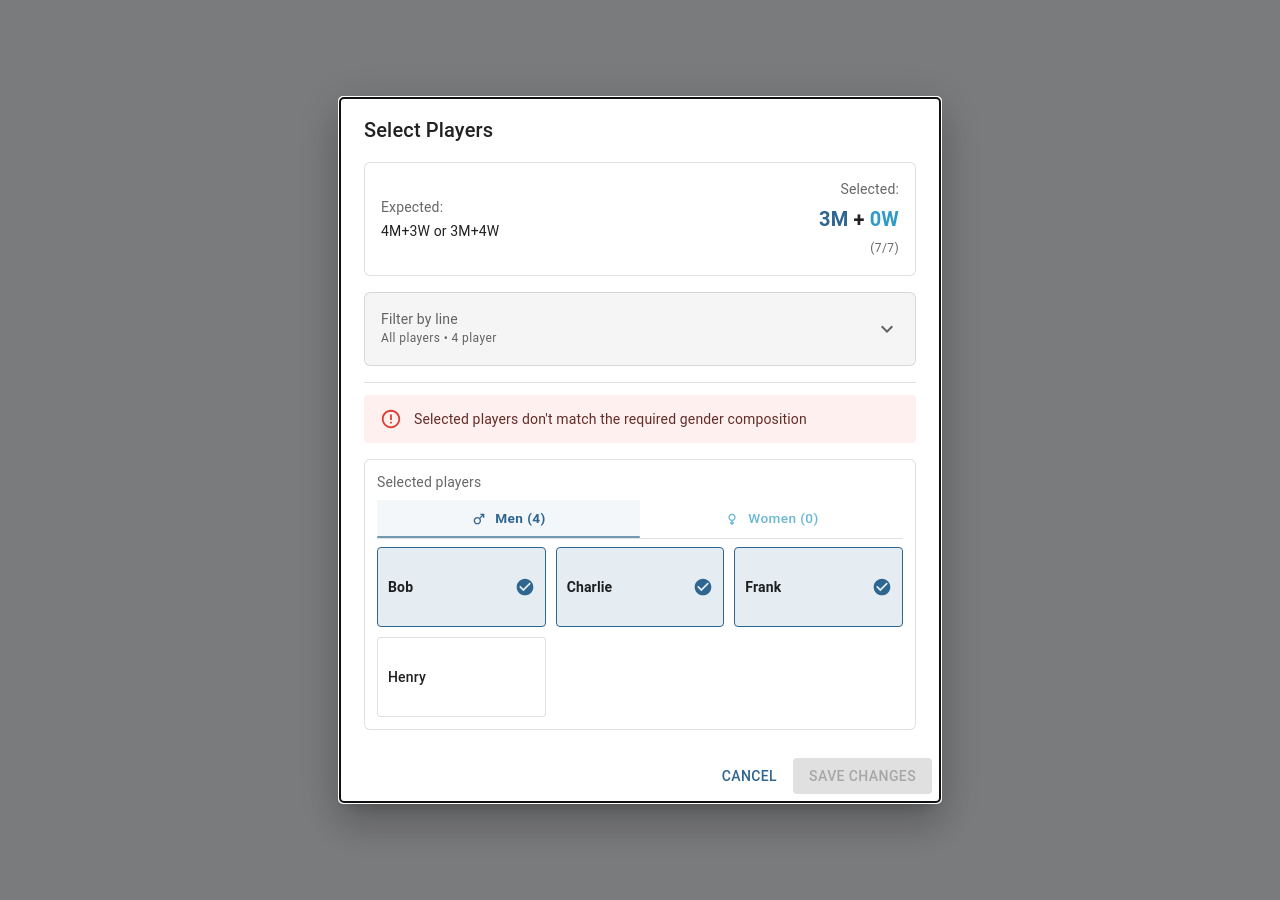
Test: ManagePlayersDialog › Empty States › shows 'no women' message when no women available
Switch to women tab
Click the tab "Women (0)" at (772, 519), box [640,500,903,538]
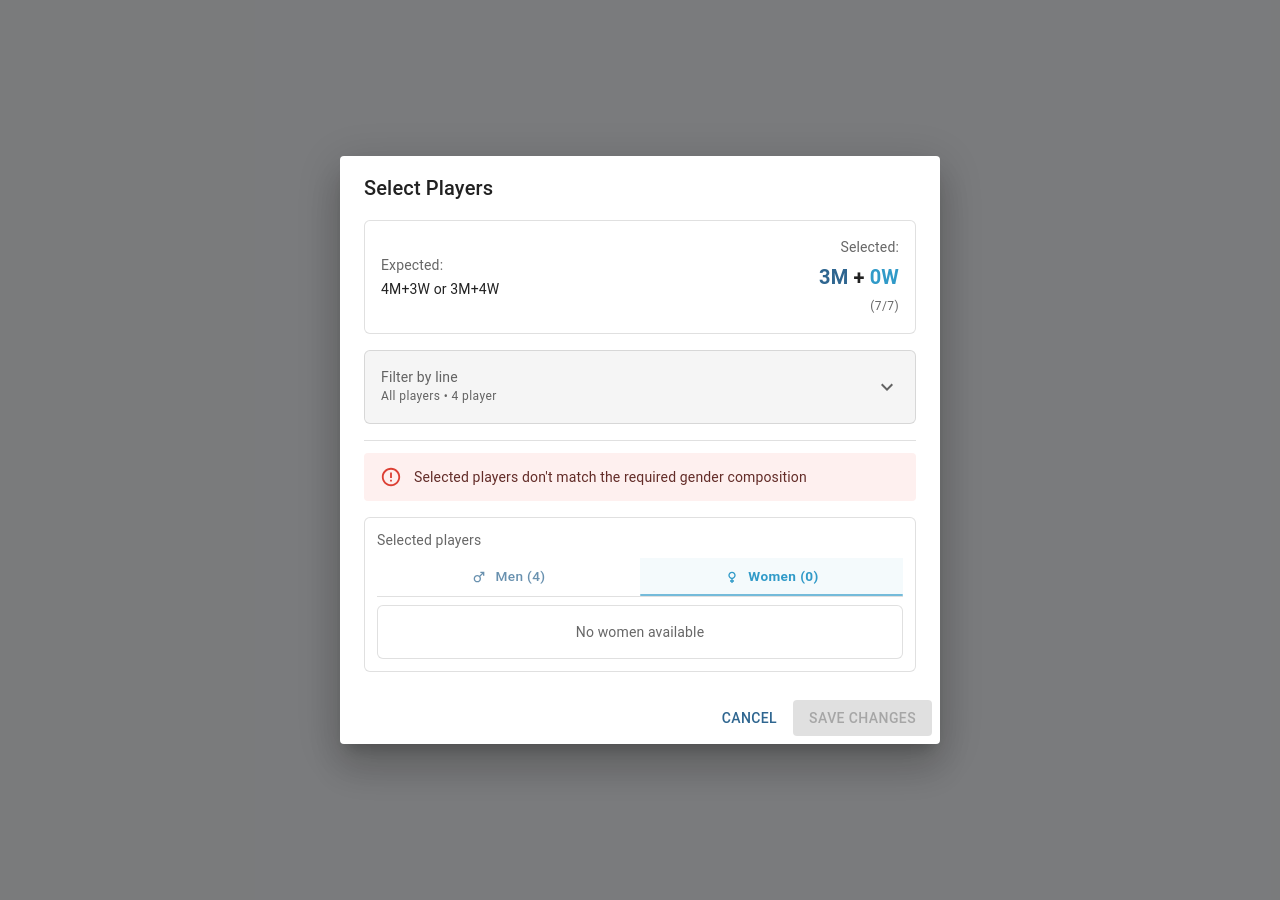
Expected: the text "No women available" is shown, [576,624,704,640]
